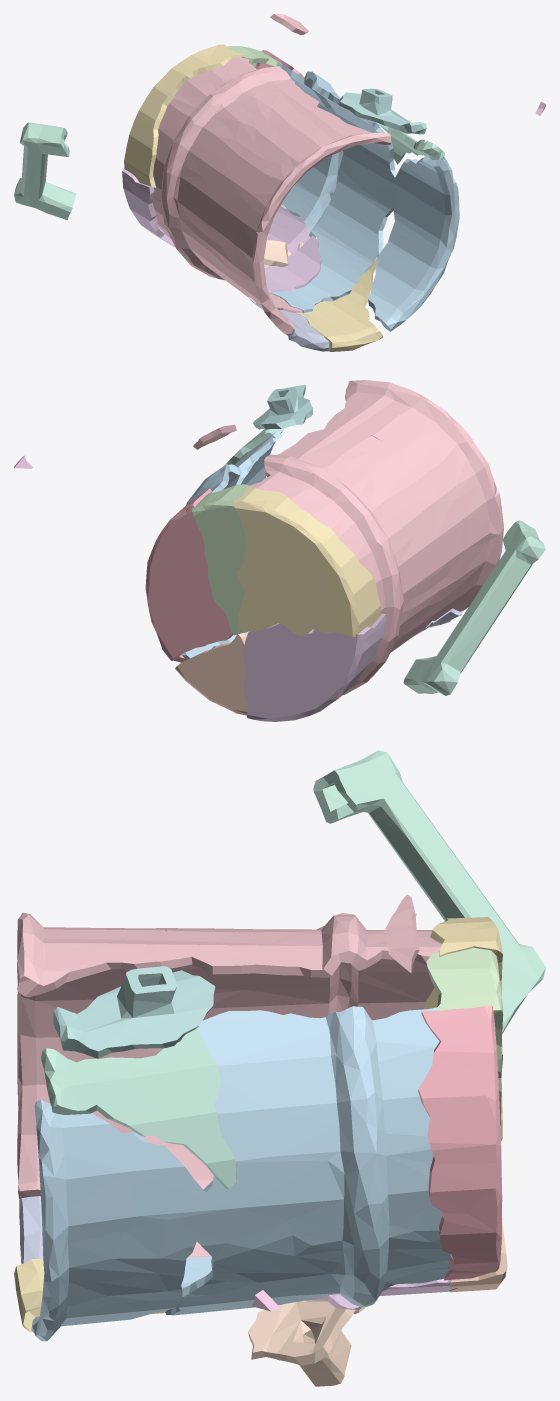
Rendered from 37f56901_colored.glb.
3 renders of one model, top to bottom at view 1: azimuth 30°, elevation 25°; view 2: azimuth 150°, elevation 25°; view 3: azimuth 270°, elevation 25°, orthographic. The views are drawn at different scales.
Parts seen in each view (by area): view 1: world; view 2: world; view 3: world.
Part boxes in pixels (x1,y1,x2,y2): world: (14, 14, 545, 351); world: (14, 380, 545, 721); world: (14, 750, 545, 1386).
Bounding box in the file's own units: 2 × 1.04 × 1.05.
